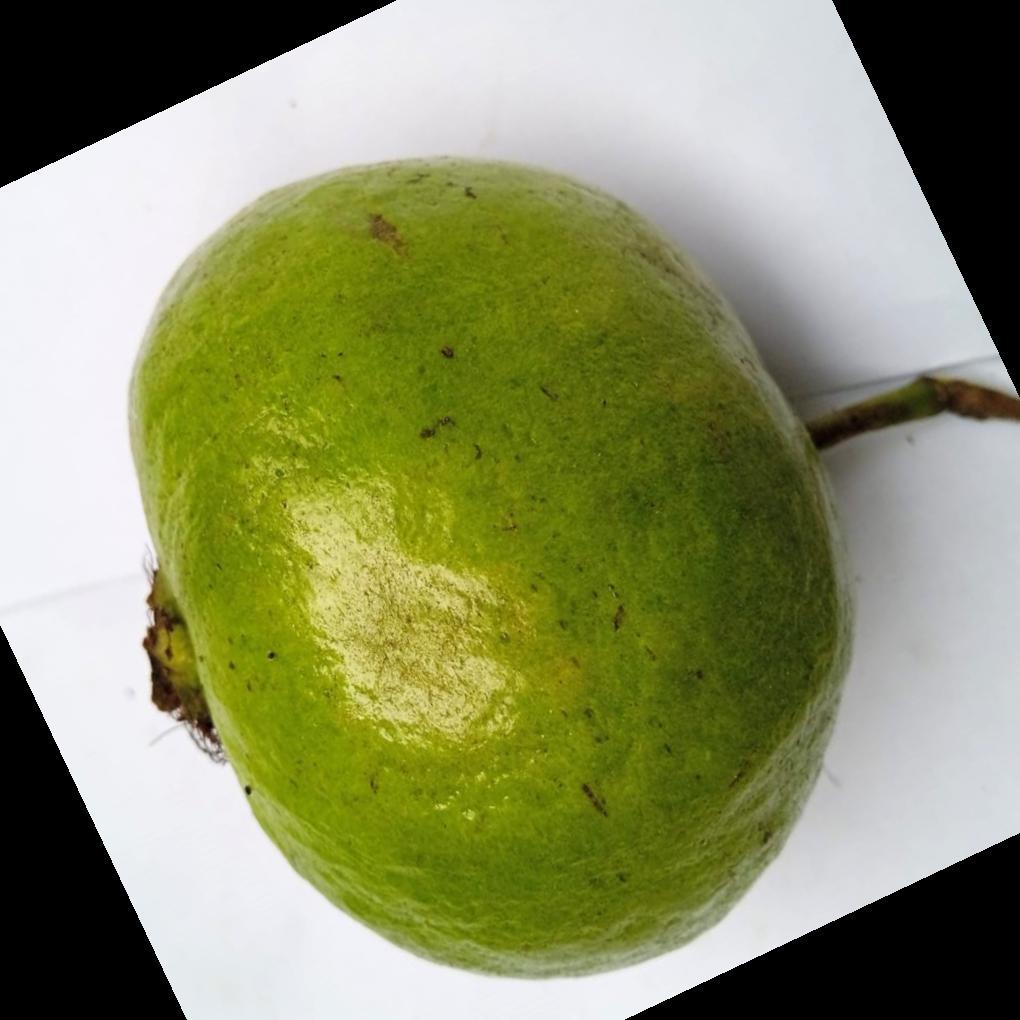FreshGuava: (123, 157, 855, 983)
